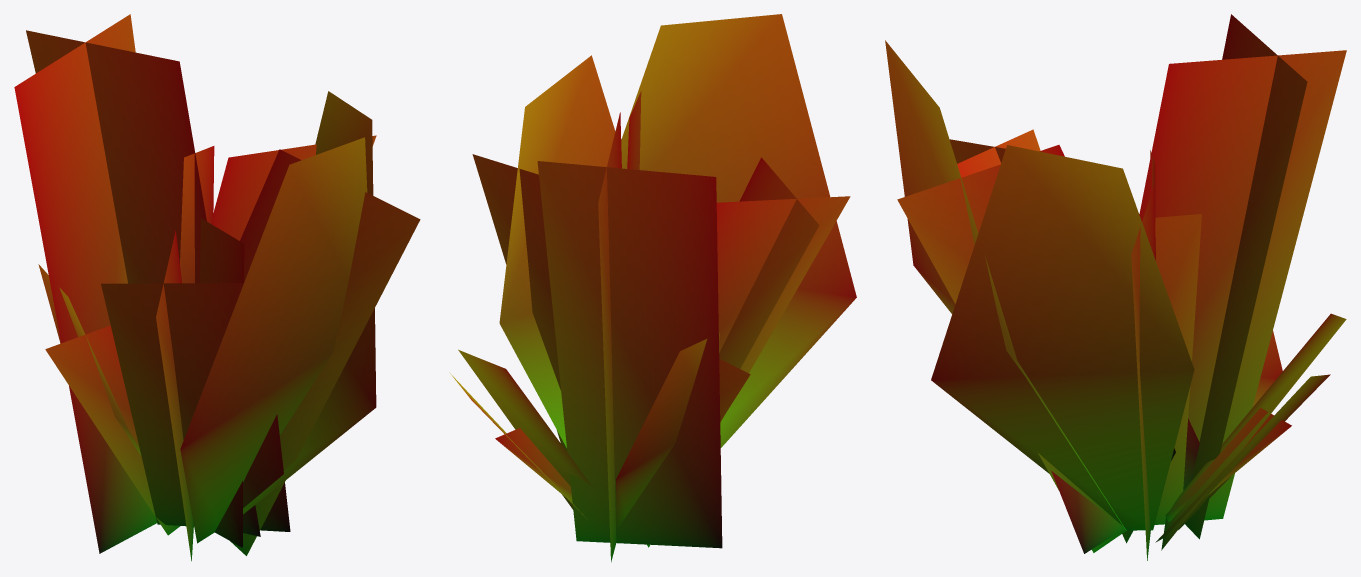
The model's file is Dead Broom Bush_LOD2_Var5_tlpjdhwia.fbx.
3 views of the same model, side by side, from view 1: azimuth 30°, elevation 25°; view 2: azimuth 150°, elevation 25°; view 3: azimuth 270°, elevation 25° (orthographic). The views are drawn at different scales.
Parts seen in each view (by area): view 1: _f82b_Var5_LOD2; view 2: _f82b_Var5_LOD2; view 3: _f82b_Var5_LOD2.
Part boxes in pixels (x1,y1,x2,y2): _f82b_Var5_LOD2: (14, 14, 420, 561); _f82b_Var5_LOD2: (449, 14, 856, 562); _f82b_Var5_LOD2: (885, 14, 1346, 560).
Bounding box in the file's own units: 19.13 × 27.71 × 23.55.
